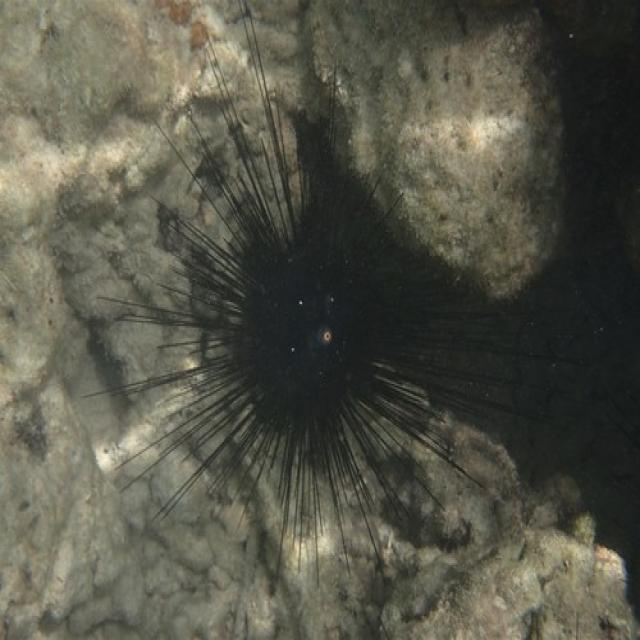Urchin: (115, 4, 528, 578)
